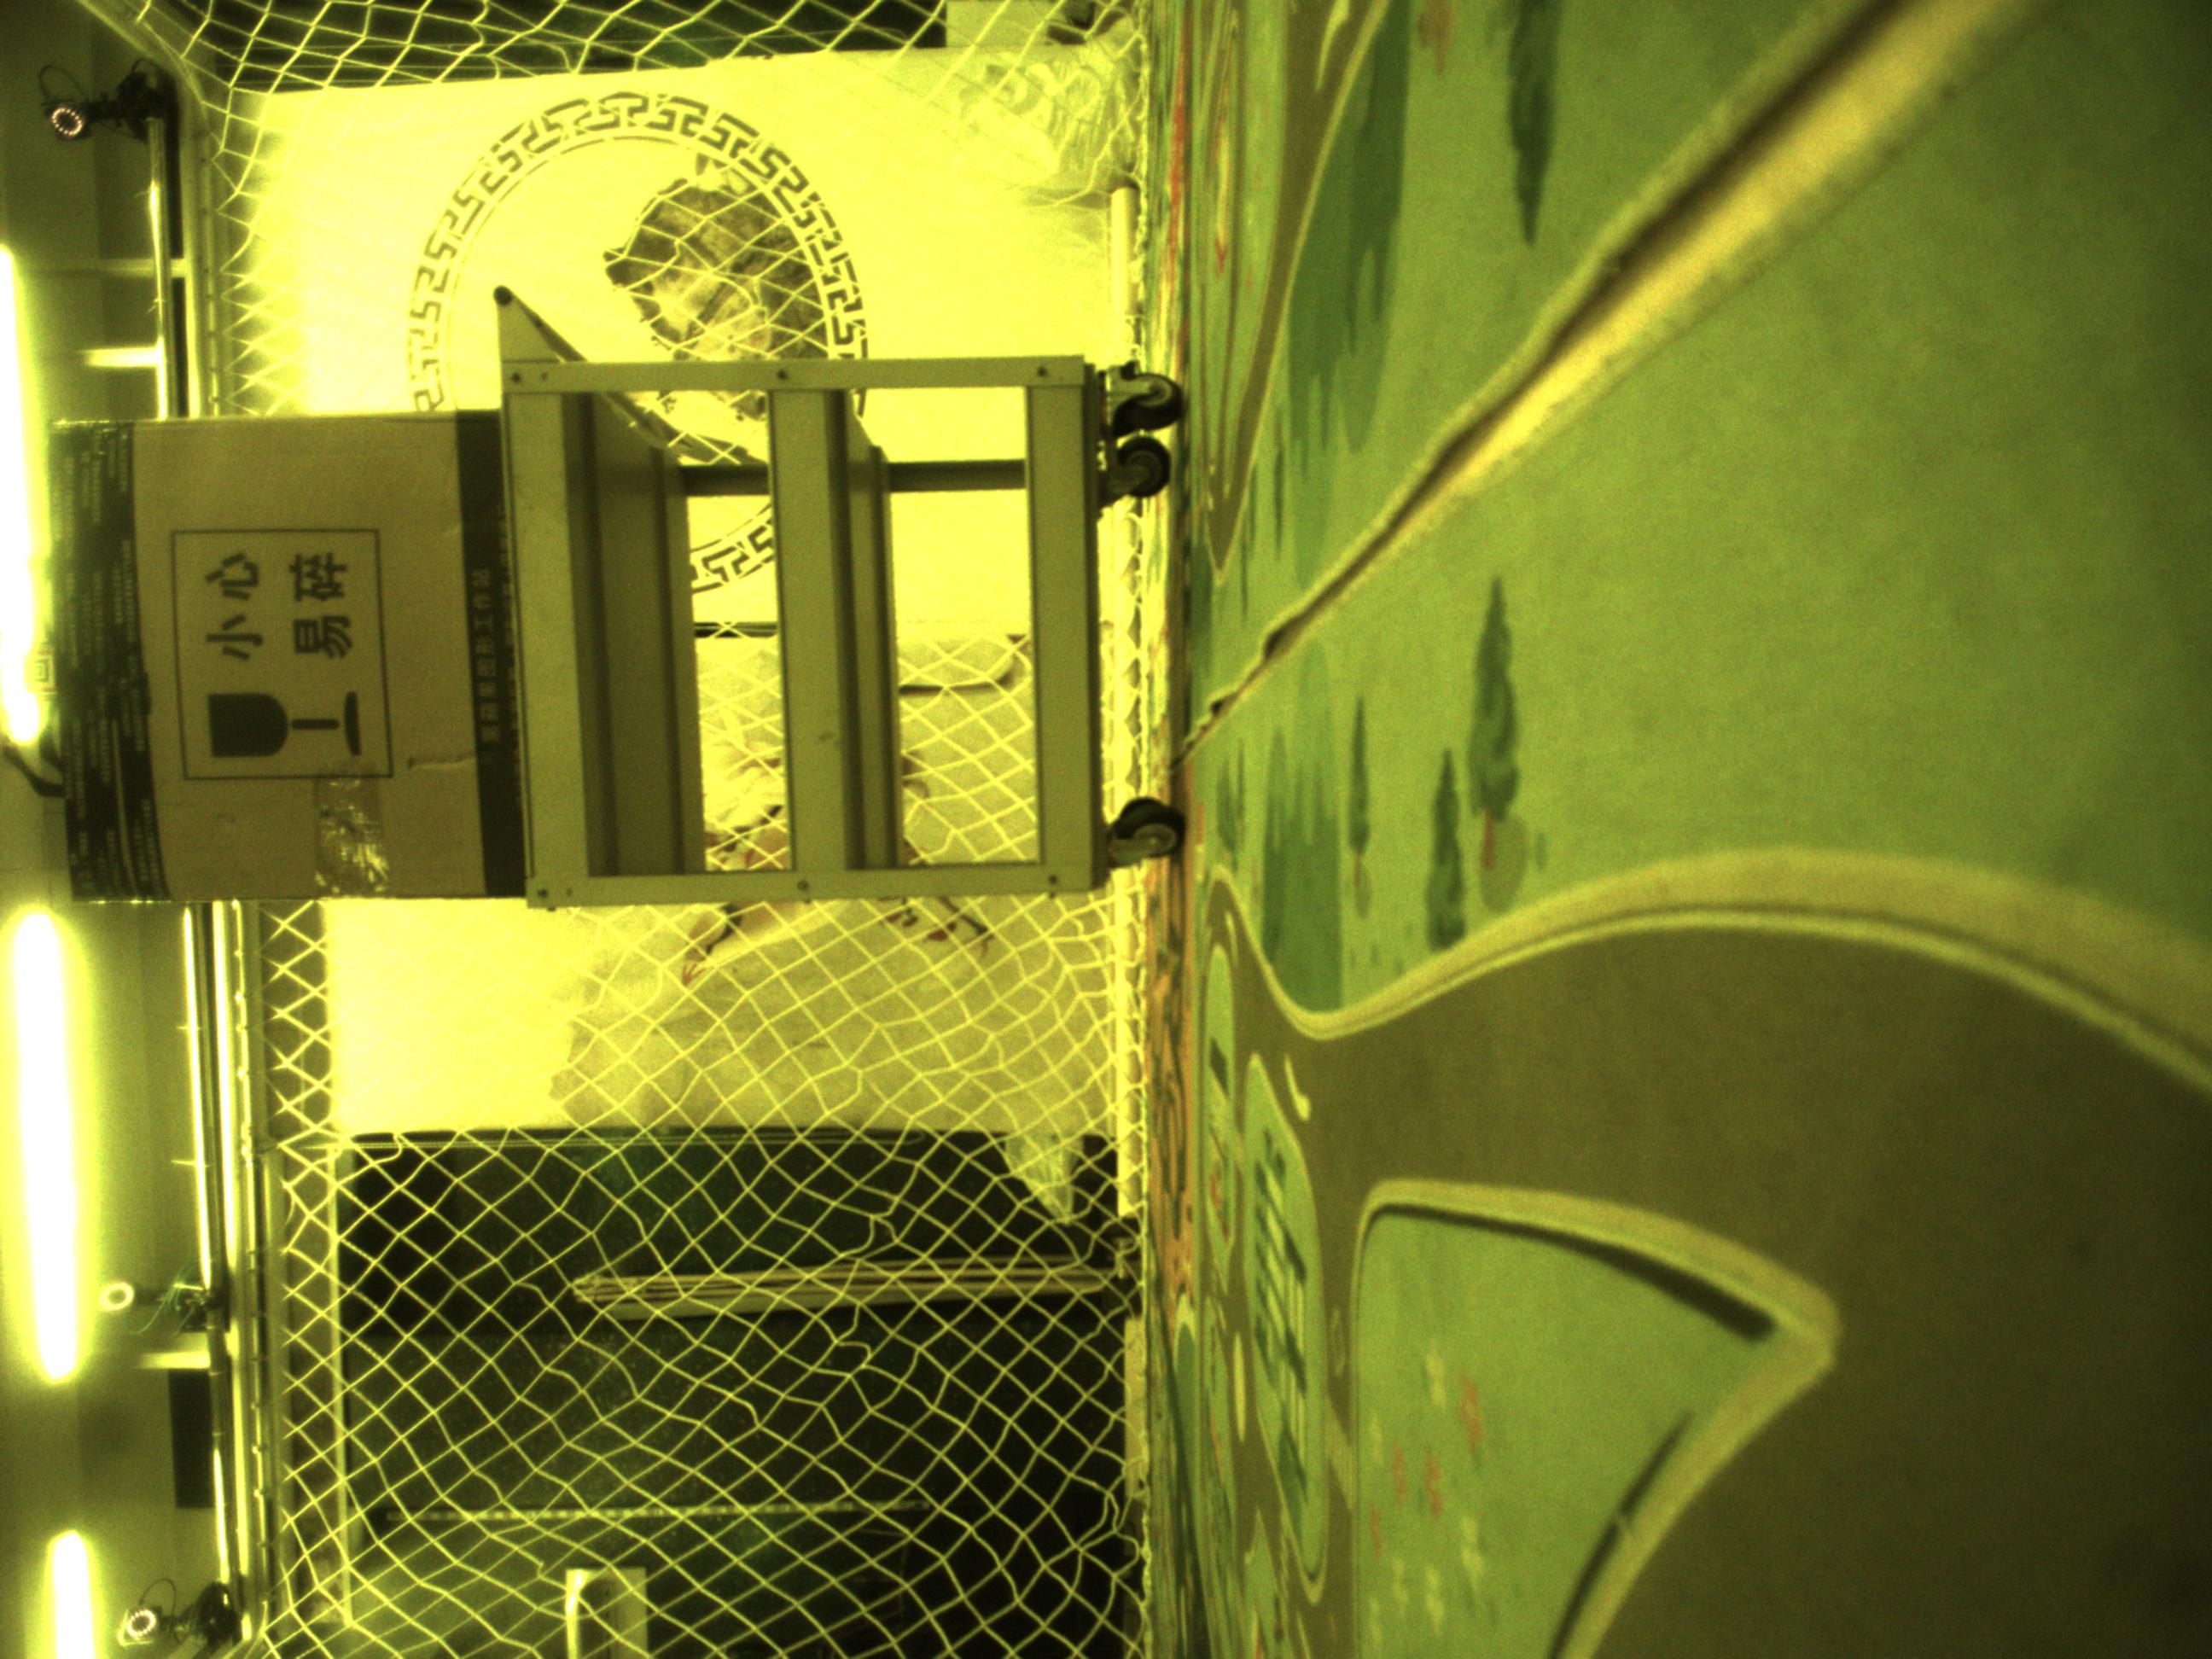outline: (23, 650, 56, 692)
